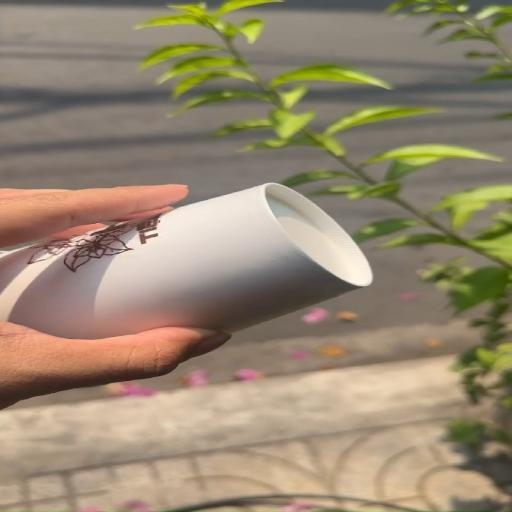Ly_giay: (0, 183, 372, 339)
